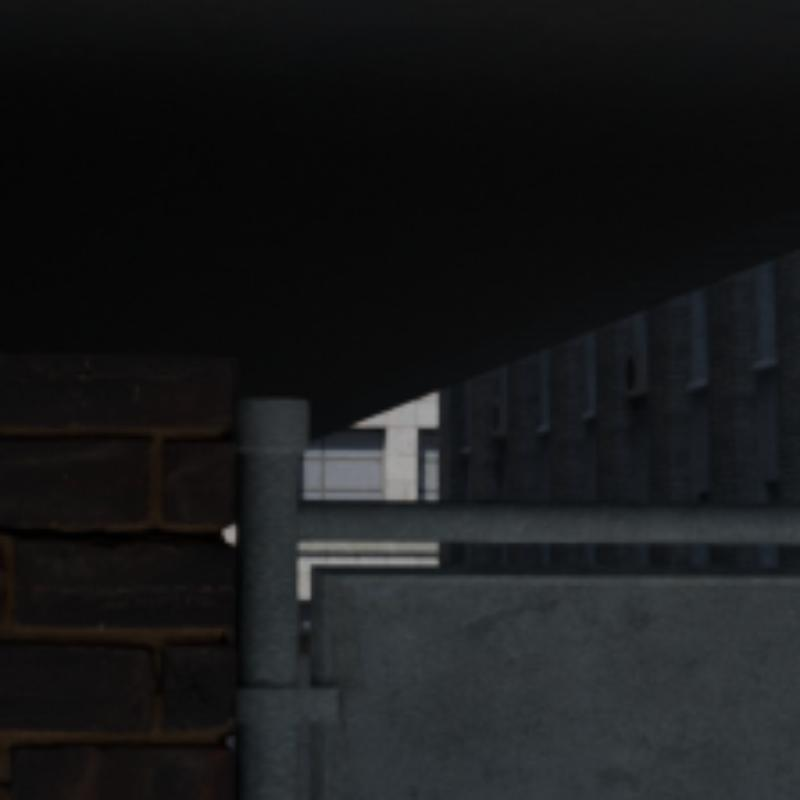pothole: (0, 525, 214, 539)
